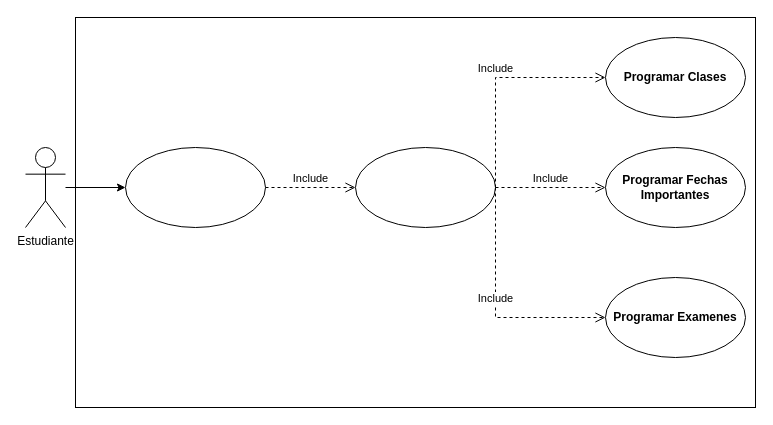
Some shapes in this 773 by 425 pixel diagram are drawn without their labels. Each missing label, with the centre of its shape:
Gestionar Calendario: (425,187)
Home: (195,187)
